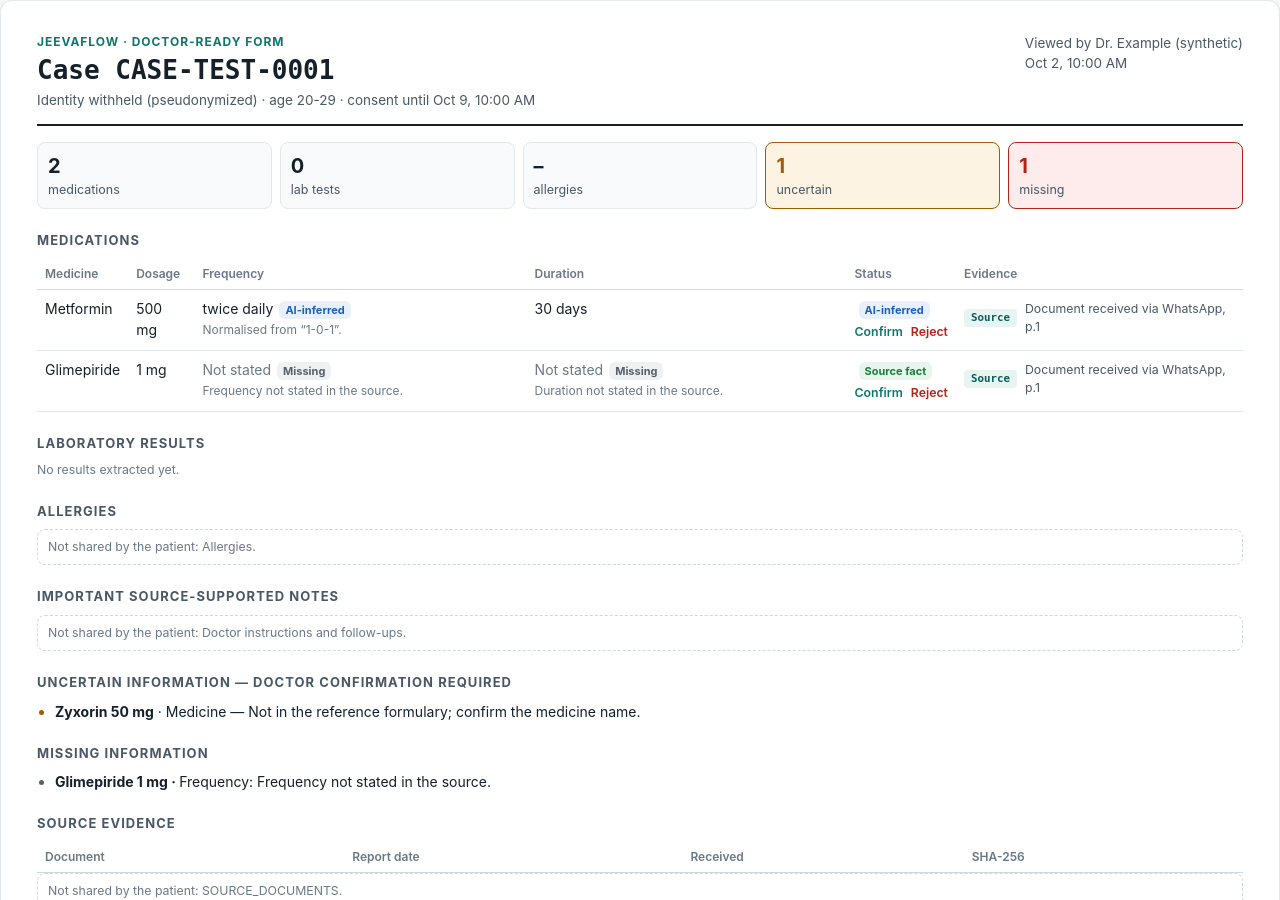
Test case: DoctorForm › labels source facts, AI-inferred, uncertain and missing information and respects scope
The image size is (1280, 900).
Check: the heading "Case CASE-TEST-0001" is shown, box [37,55,334,85]
Check: the text "AI-inferred" next to "twice daily" is shown, box [285,303,345,317]
What coordinates should you click on to do the following:
click the button "Source Document received via WhatsApp, p.1" in the row of "Metformin"
I would click on:
 (1099, 318)
Its box is [964,298,1235,339].
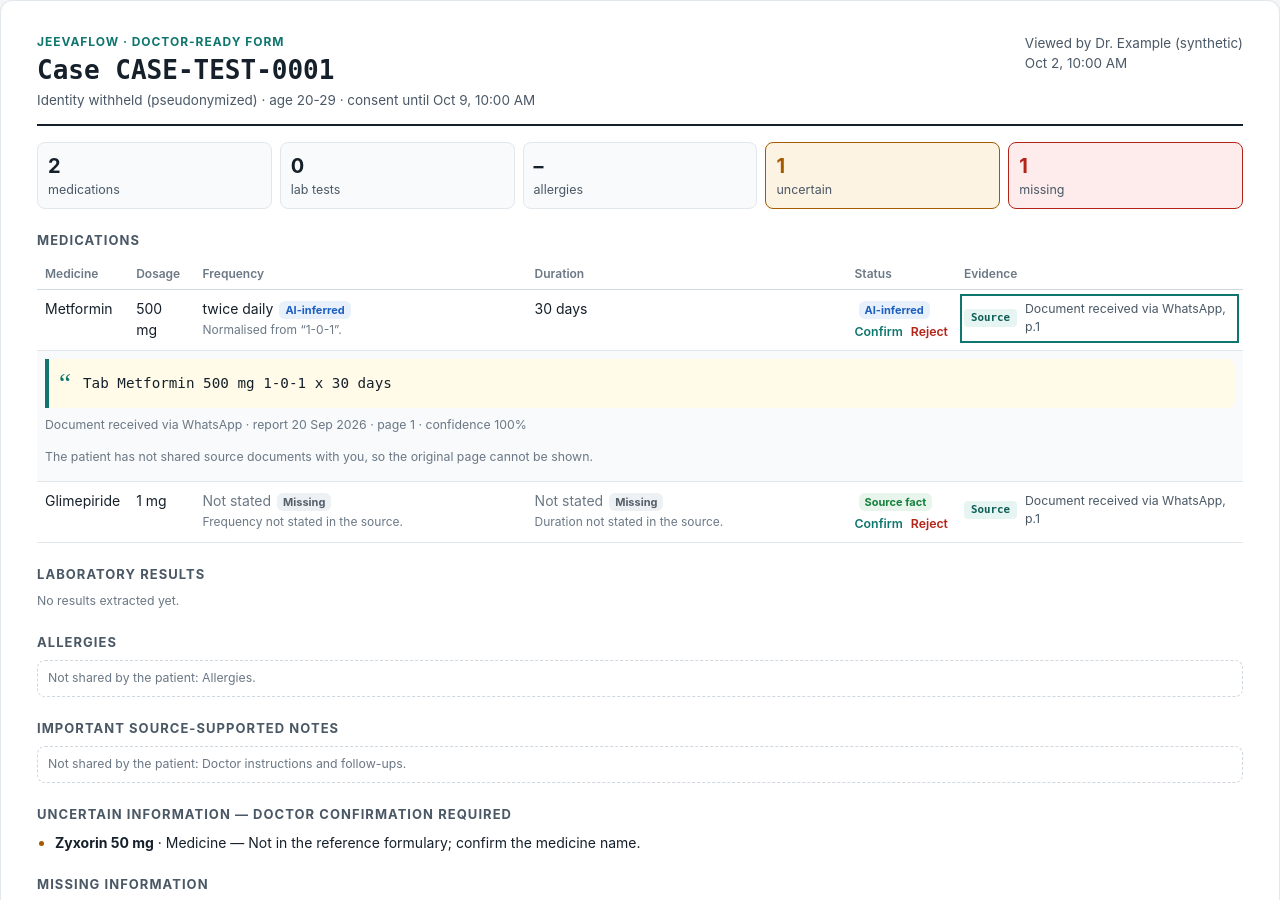
Check: the text "has not shared source documents" is shown, box [45,449,593,464]
